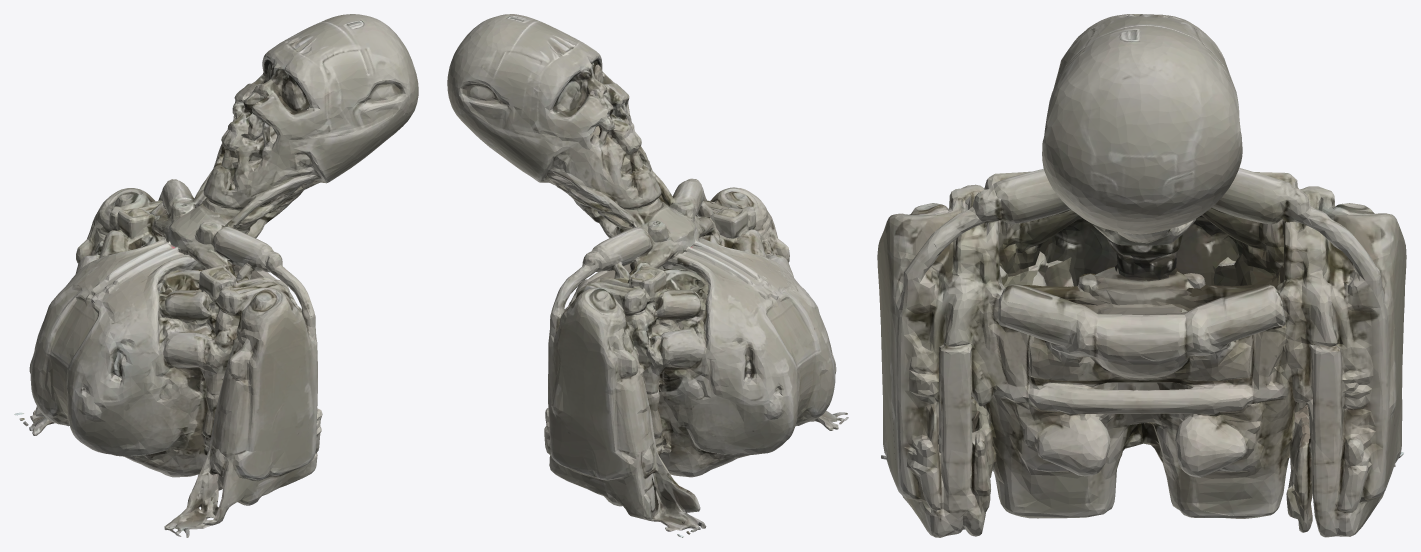
Rendered from terminator-bust.glb.
The picture shows the model from 3 angles, left to right: view 1: azimuth 30°, elevation 25°; view 2: azimuth 150°, elevation 25°; view 3: azimuth 270°, elevation 25°; orthographic projection. The views are drawn at different scales.
Visible parts, largest first — view 1: terminator bust_textured.obj; view 2: terminator bust_textured.obj; view 3: terminator bust_textured.obj.
Boxes of the visible parts, box(x1,y1,x2,y2) form: terminator bust_textured.obj: box(14, 14, 418, 537); terminator bust_textured.obj: box(447, 14, 848, 537); terminator bust_textured.obj: box(877, 14, 1406, 537).
Size of the model in its own units: 1.4 by 1.5 by 1.16.
Materials: 1 (1 with a texture image).
